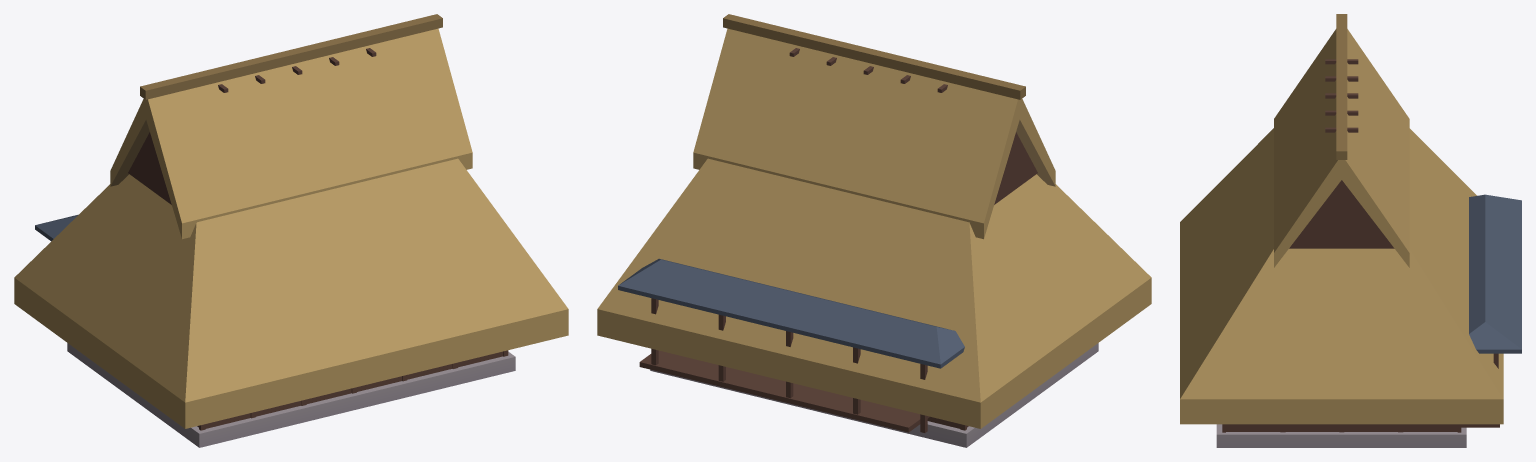
The model's file is farmhouse_b.glb.
The picture shows the model from 3 angles, left to right: view 1: azimuth 30°, elevation 25°; view 2: azimuth 150°, elevation 25°; view 3: azimuth 270°, elevation 25°; orthographic projection. The views are drawn at different scales.
Visible parts, largest first — view 1: farmhouse_b; view 2: farmhouse_b; view 3: farmhouse_b.
Part boxes in pixels (<box>): farmhouse_b: <box>14,14,568,447</box>; farmhouse_b: <box>597,14,1151,447</box>; farmhouse_b: <box>1180,14,1521,447</box>.
Size of the model in its own units: 11.4 by 8.77 by 9.3.
